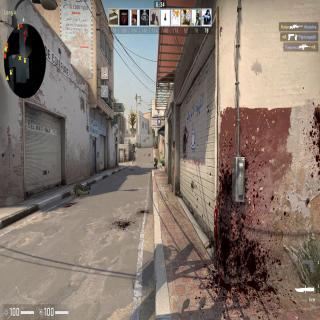CT-Body: (154, 158, 158, 168), (132, 143, 136, 153)
CT-Head: (154, 157, 156, 159), (133, 144, 134, 146)
